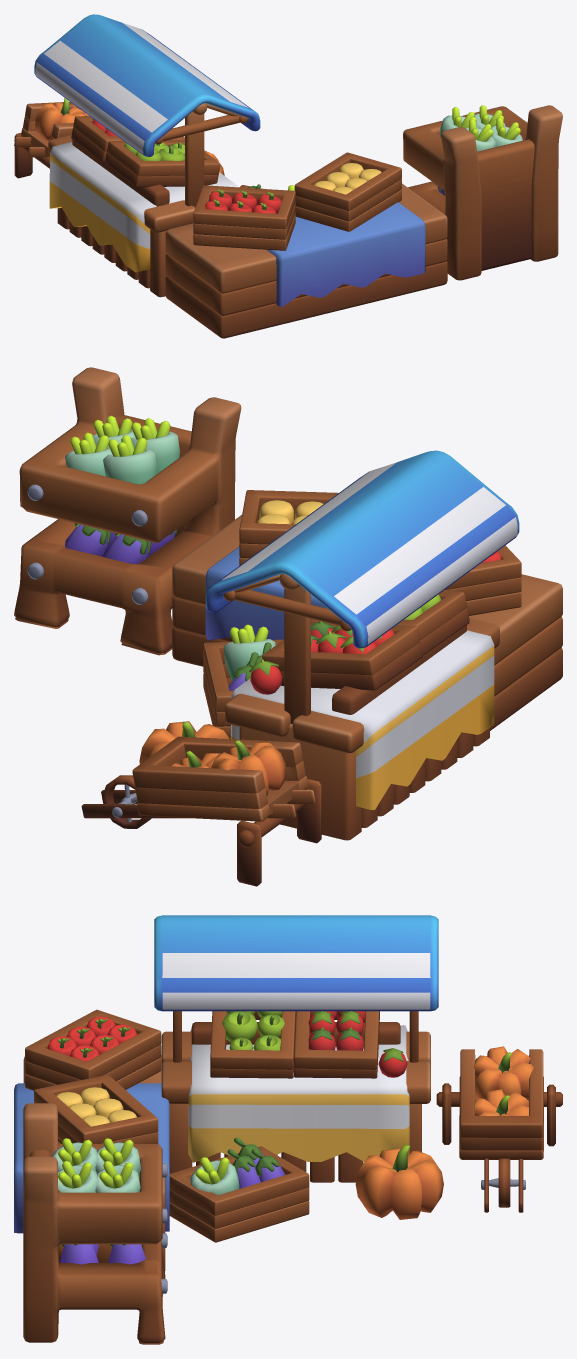
Rendered from Farm_Shop.fbx.
3 renders of one model, top to bottom at view 1: azimuth 30°, elevation 25°; view 2: azimuth 150°, elevation 25°; view 3: azimuth 270°, elevation 25°, orthographic. The views are drawn at different scales.
Visible parts, largest first — view 1: Cylinder.009, Cube.023, Cube.031, Cube.032, Cube.022, Cube.008, Cube.006, Cube.007, Cube.010, Cube.021, Cube.001, Cube.014 (+17 smaller); view 2: Cube.023, Cylinder.009, Cube.032, Cube.001, Cube.006, Cube.024, Cube.005, Cube.031, Cube.008, Cube.007, Cube.002, Cube.016 (+27 smaller); view 3: Cylinder.009, Cube.023, Cube.032, Sphere.003, Cube.024, Cube.010, Cube.021, Cube.001, Cube.018, Cube.005, Cube.031, Cube.016 (+27 smaller).
Part boxes in pixels (x1,y1,x2,y2): Cylinder.009: [34, 14, 260, 157]; Cube.023: [403, 105, 562, 280]; Cube.031: [266, 202, 425, 307]; Cube.032: [49, 142, 237, 272]; Cube.022: [477, 139, 534, 270]; Cube.008: [165, 261, 447, 338]; Cube.006: [165, 183, 447, 293]; Cube.007: [165, 239, 447, 315]; Cube.010: [294, 152, 401, 211]; Cube.021: [193, 185, 295, 229]; Cube.001: [57, 208, 166, 297]; Cube.014: [107, 139, 220, 176]; Cube.023: [14, 367, 241, 655]; Cylinder.009: [205, 450, 519, 648]; Cube.032: [231, 630, 494, 809]; Cube.001: [239, 724, 489, 840]; Cube.006: [172, 515, 562, 665]; Cube.024: [132, 736, 302, 793]; Cube.005: [225, 618, 499, 753]; Cube.031: [205, 547, 326, 640]; Cube.008: [172, 627, 562, 730]; Cube.007: [172, 596, 562, 696]; Cube.002: [284, 585, 310, 723]; Cube.016: [262, 622, 420, 675]; Cylinder.009: [154, 915, 438, 1011]; Cube.023: [23, 1103, 165, 1344]; Cube.032: [188, 1025, 409, 1162]; Sphere.003: [355, 1145, 443, 1219]; Cube.024: [460, 1049, 543, 1137]; Cube.010: [34, 1075, 158, 1143]; Cube.021: [25, 1009, 161, 1079]; Cube.001: [169, 1104, 421, 1182]; Cube.018: [169, 1146, 309, 1215]; Cube.005: [161, 1031, 430, 1103]; Cube.031: [14, 1083, 169, 1233]; Cube.016: [294, 1011, 379, 1069].
Bounding box in the file's own units: 2406 × 1233 × 2521.
Materials: 2 (2 with a texture image).
